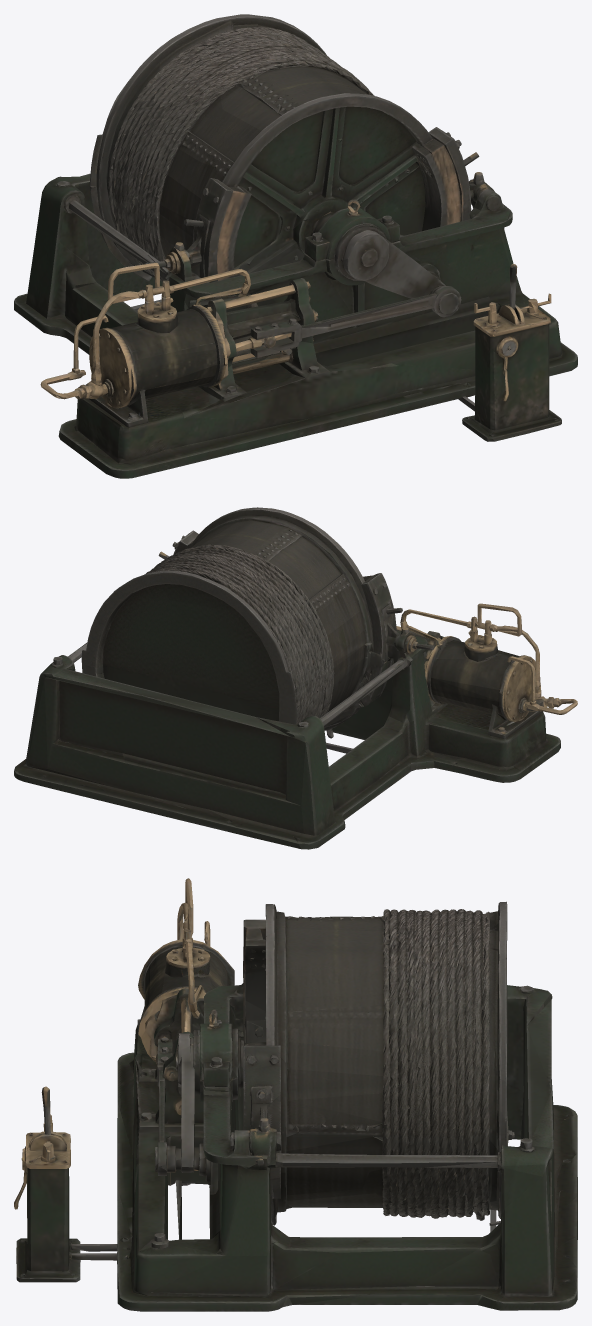
File: winding_drum_engine.glb
3 renders of one model, top to bottom at view 1: azimuth 30°, elevation 25°; view 2: azimuth 150°, elevation 25°; view 3: azimuth 270°, elevation 25°, orthographic. The views are drawn at different scales.
Bounding box in the file's own units: 1.9 × 0.9813 × 1.67.
1 material, 1 textured.
